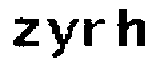h: (114, 2, 149, 53)
r: (82, 13, 107, 48)
y: (46, 15, 82, 60)
z: (9, 14, 44, 52)
